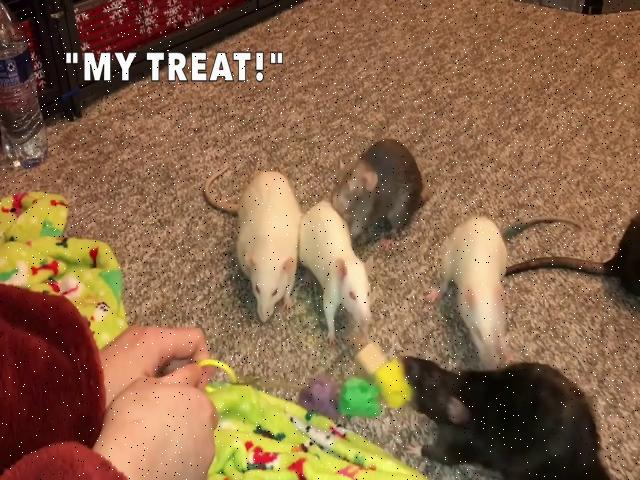Tikus: (402, 354, 612, 480), (206, 168, 302, 320), (428, 214, 513, 366), (300, 200, 373, 336), (328, 138, 423, 236)
